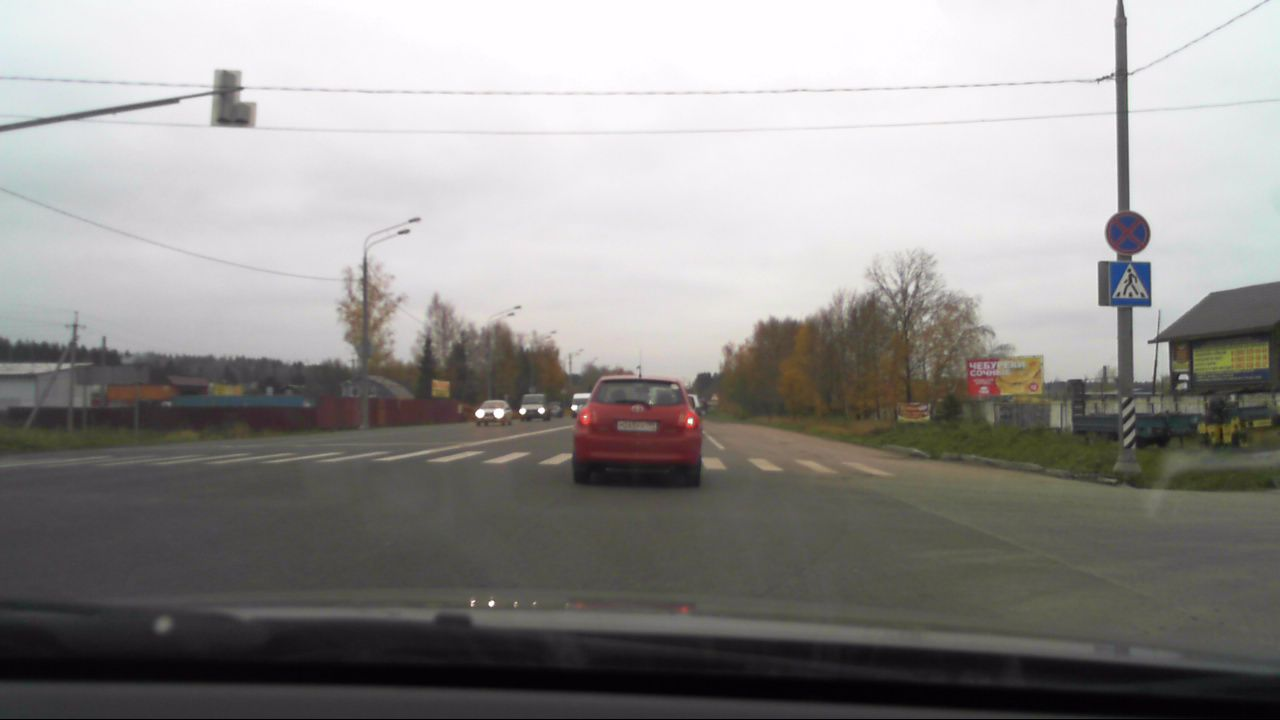No Parking: (1105, 207, 1152, 254)
